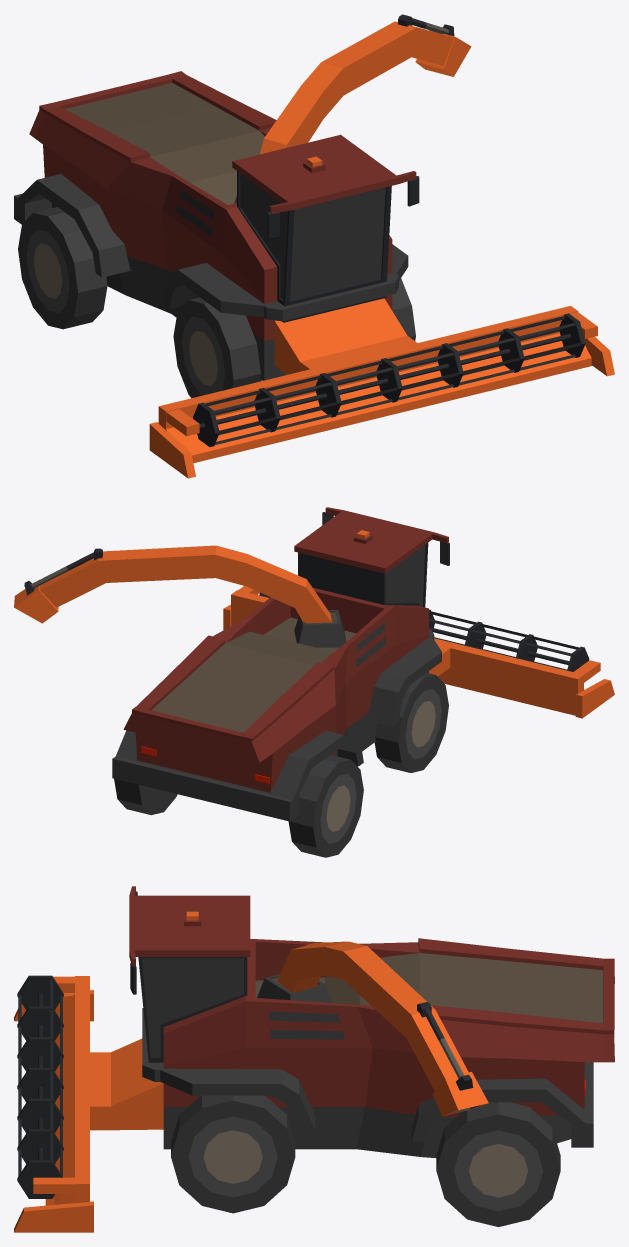
Rendered from Harvester_2.fbx.
3 views of the same model, one above another, from view 1: azimuth 30°, elevation 25°; view 2: azimuth 150°, elevation 25°; view 3: azimuth 270°, elevation 25° (orthographic). The views are drawn at different scales.
Visible parts, largest first — view 1: Harvester_2, HarvesterReel_2.001, HarvesterTop_2.001, HarvesterBackWheels_2, HarvesterFrontWheels_2; view 2: Harvester_2, HarvesterTop_2.001, HarvesterReel_2.001, HarvesterBackWheels_2, HarvesterFrontWheels_2; view 3: Harvester_2, HarvesterReel_2.001, HarvesterBackWheels_2, HarvesterFrontWheels_2, HarvesterTop_2.001.
Part boxes in pixels (x1,y1,x2,y2): Harvester_2: (14,71,419,380); HarvesterReel_2.001: (149,306,614,478); HarvesterTop_2.001: (234,14,471,203); HarvesterBackWheels_2: (18,207,107,329); HarvesterFrontWheels_2: (173,278,415,398); Harvester_2: (112,507,450,821); HarvesterTop_2.001: (14,545,346,647); HarvesterReel_2.001: (223,586,614,718); HarvesterBackWheels_2: (114,755,363,857); HarvesterFrontWheels_2: (374,673,448,772); Harvester_2: (90,886,614,1157); HarvesterReel_2.001: (14,975,93,1232); HarvesterBackWheels_2: (436,1102,560,1226); HarvesterFrontWheels_2: (171,1095,295,1213); HarvesterTop_2.001: (257,941,488,1116).
Size of the model in its own units: 586 by 291 by 592.
